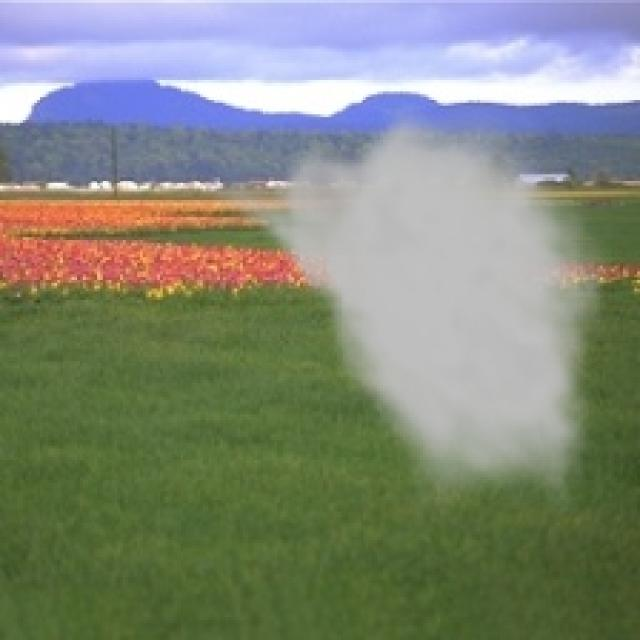smoke: (200, 97, 611, 517)
